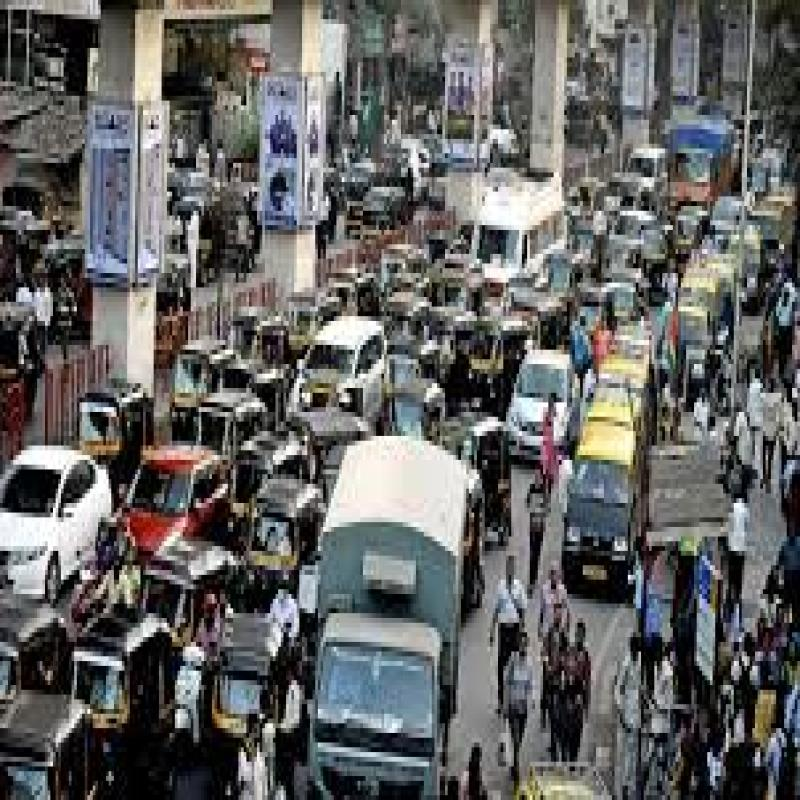auto: (71, 638, 158, 758), (221, 632, 278, 784), (246, 480, 303, 596), (151, 550, 204, 673), (77, 379, 134, 465)
car: (4, 419, 94, 594), (568, 421, 630, 587), (507, 354, 572, 489), (127, 438, 202, 552)
